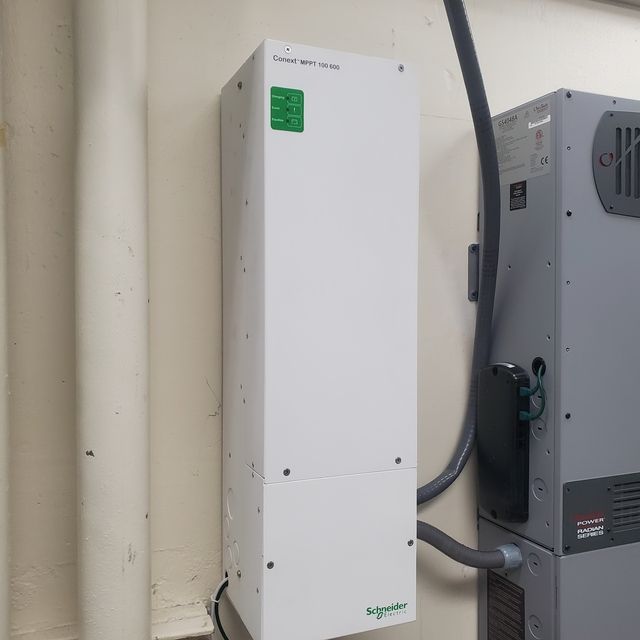charge_controller: (211, 37, 430, 640)
